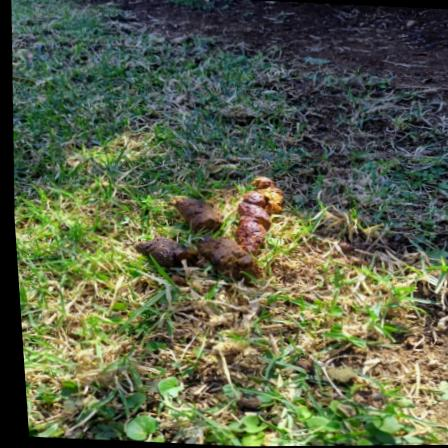dog-poop: (124, 170, 282, 287)
